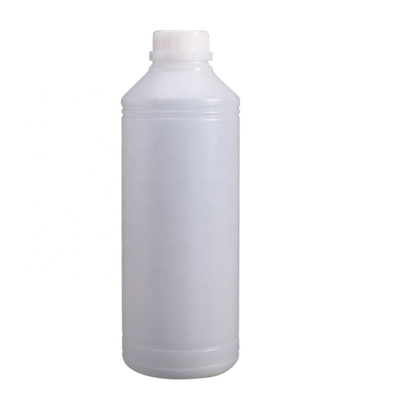plastic_bottle: (116, 25, 245, 382)
